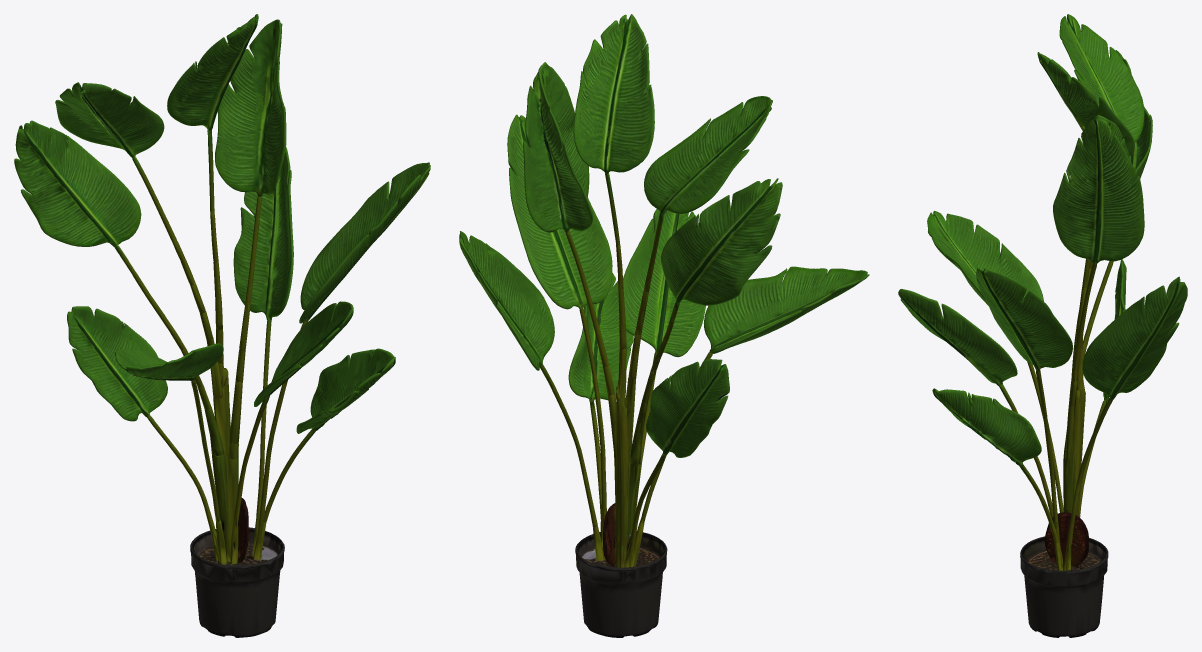
Rendered from fejka-plant.glb.
3 views of the same model, side by side, from view 1: azimuth 30°, elevation 25°; view 2: azimuth 150°, elevation 25°; view 3: azimuth 270°, elevation 25° (orthographic). The views are drawn at different scales.
Visible parts, largest first — view 1: tripo_node_0d7e4b2b-2f4f-489c-a60c-9828f8a7bb98; view 2: tripo_node_0d7e4b2b-2f4f-489c-a60c-9828f8a7bb98; view 3: tripo_node_0d7e4b2b-2f4f-489c-a60c-9828f8a7bb98.
Part boxes in pixels (<box>): tripo_node_0d7e4b2b-2f4f-489c-a60c-9828f8a7bb98: <box>14,14,430,637</box>; tripo_node_0d7e4b2b-2f4f-489c-a60c-9828f8a7bb98: <box>459,14,869,637</box>; tripo_node_0d7e4b2b-2f4f-489c-a60c-9828f8a7bb98: <box>898,14,1187,637</box>.
Bounding box in the file's own units: 1.05 × 1.8 × 0.8233.
1 material, 1 textured.
